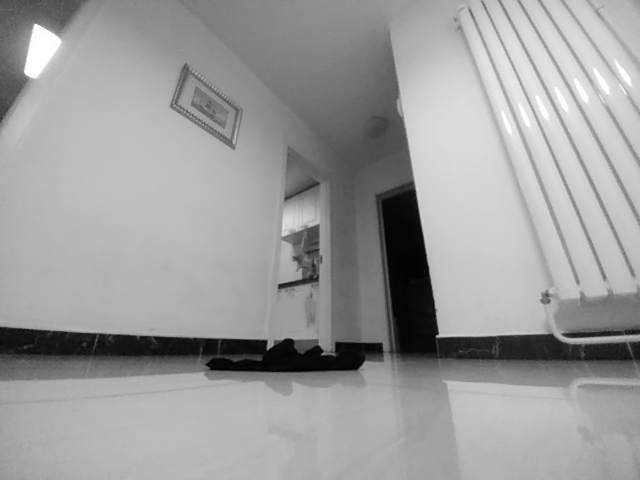others: (206, 338, 369, 375)
